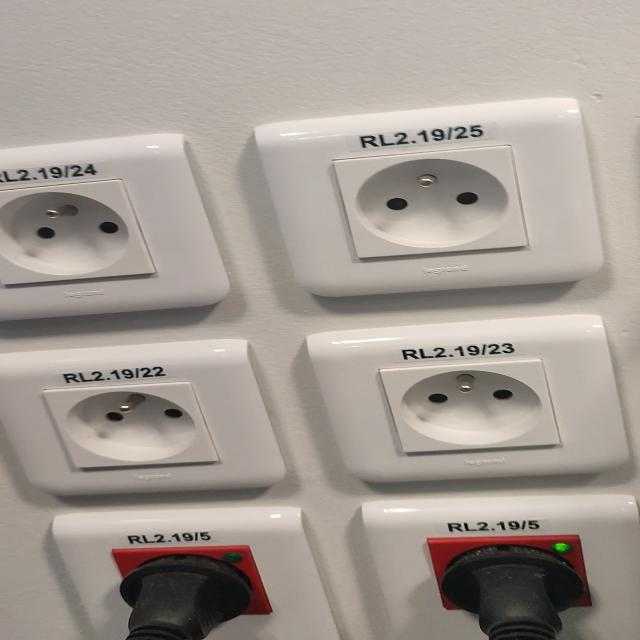house plug: (332, 144, 530, 258), (379, 358, 563, 454), (0, 178, 157, 285), (45, 381, 220, 468)
